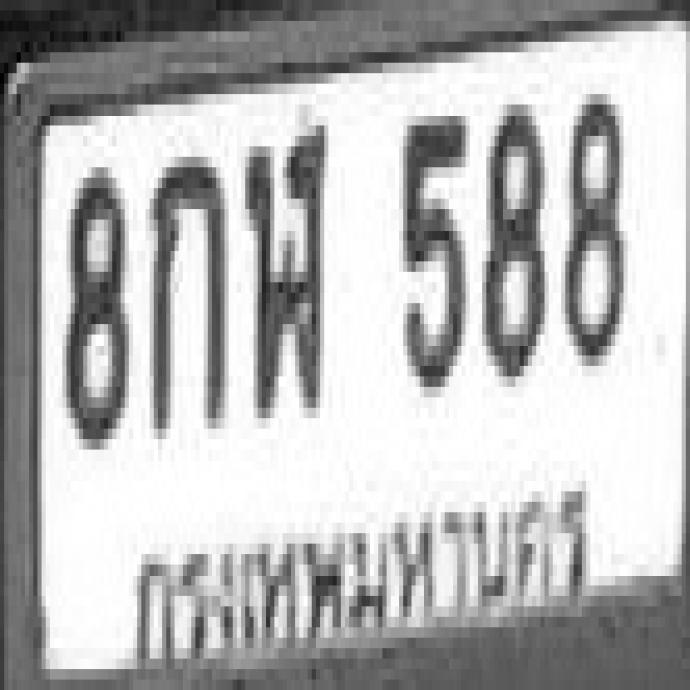5: (399, 106, 463, 378)
8: (61, 157, 123, 439), (480, 96, 541, 373), (561, 85, 620, 356)
A01: (146, 146, 222, 427)
A42: (242, 115, 322, 408)
BKK: (122, 467, 599, 659)
